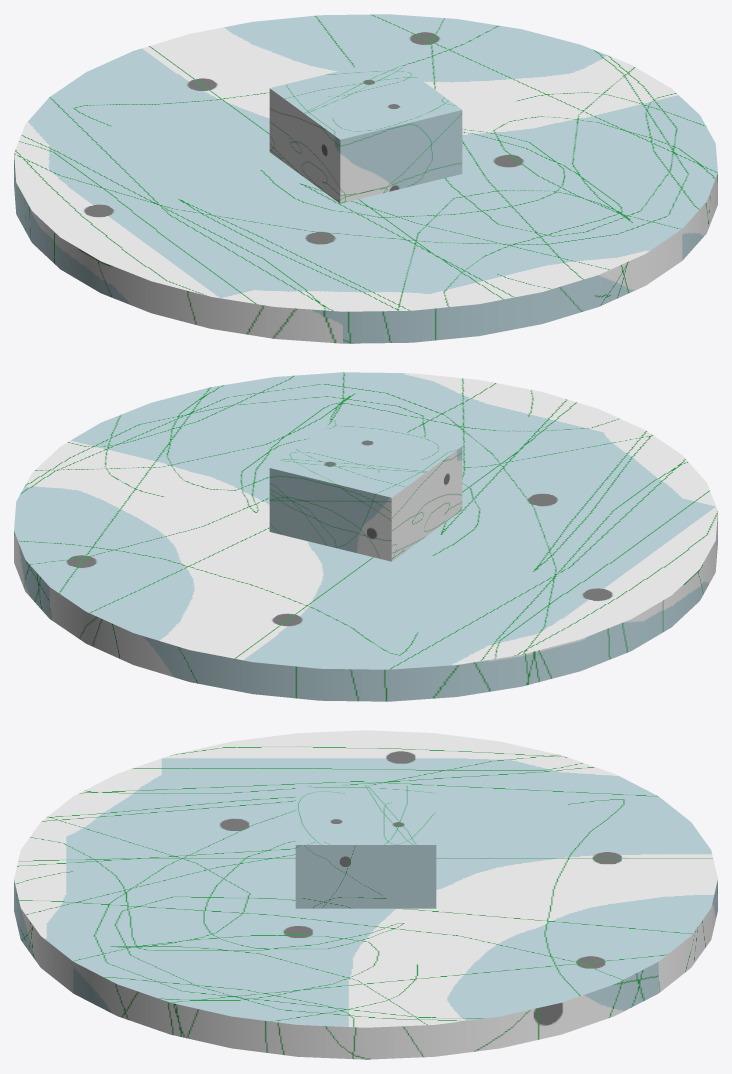
The model's file is Ground2.fbx.
3 renders of one model, top to bottom at view 1: azimuth 30°, elevation 25°; view 2: azimuth 150°, elevation 25°; view 3: azimuth 270°, elevation 25°, orthographic.
Parts seen in each view (by area): view 1: pCylinder1, pCube1; view 2: pCylinder1, pCube1; view 3: pCylinder1, pCube1.
Part boxes in pixels (bbox=[...]): pCylinder1: bbox=[14, 14, 717, 343]; pCube1: bbox=[269, 58, 462, 203]; pCylinder1: bbox=[14, 372, 717, 701]; pCube1: bbox=[269, 416, 462, 561]; pCylinder1: bbox=[14, 730, 717, 1059]; pCube1: bbox=[295, 785, 436, 908].
Bounding box in the file's own units: 20 × 4 × 20.
Materials: 1 (1 with a texture image).
